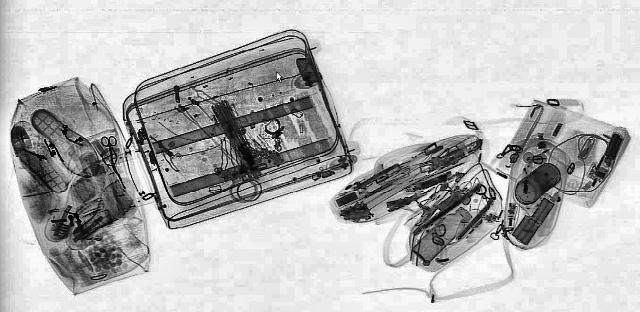Scissors: (100, 136, 120, 164)
